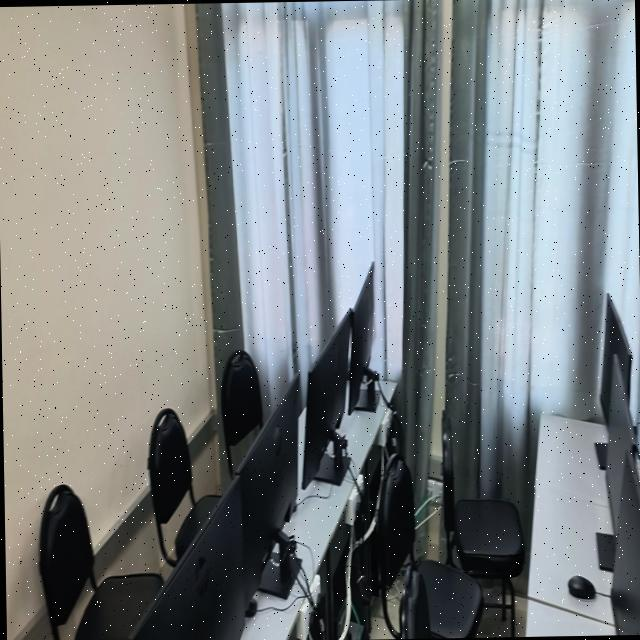Chair: (375, 451, 482, 639), (38, 483, 162, 640), (440, 408, 523, 619), (146, 407, 219, 565), (220, 349, 261, 474), (399, 566, 429, 639)
Monitor: (127, 474, 244, 640), (237, 376, 300, 604), (301, 310, 351, 486), (609, 448, 640, 635), (604, 354, 634, 546), (598, 292, 630, 423), (347, 261, 373, 412), (633, 472, 640, 506)
Mouse: (567, 574, 594, 598)
